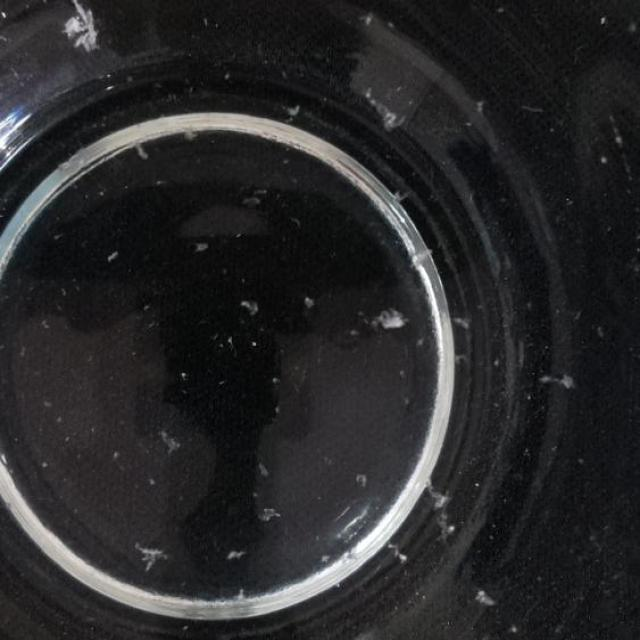fiber: (415, 477, 465, 548), (62, 0, 106, 76), (347, 80, 406, 132), (363, 298, 415, 343), (131, 529, 169, 576), (533, 366, 574, 404), (468, 574, 501, 612), (235, 286, 267, 325), (159, 423, 187, 459), (281, 94, 309, 129), (133, 134, 155, 170), (230, 539, 249, 579), (260, 500, 284, 530), (302, 286, 320, 316), (195, 235, 212, 263), (252, 456, 276, 474), (233, 583, 255, 602)
